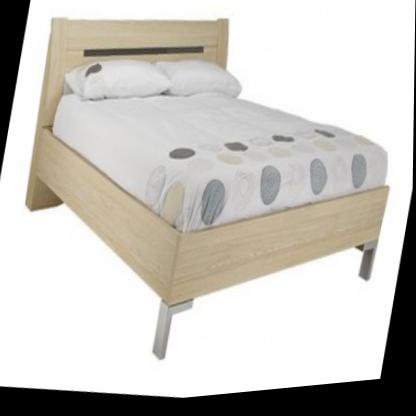Bed: (0, 0, 416, 407)
